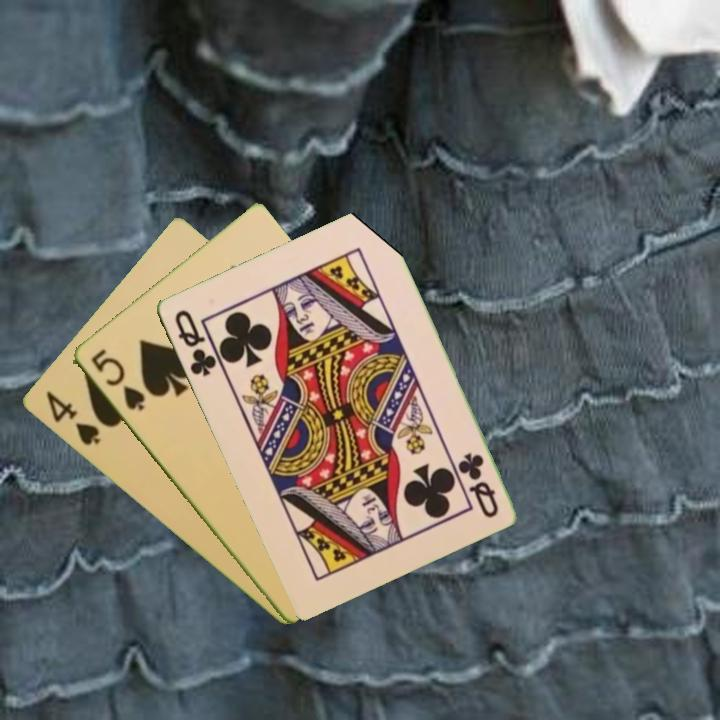4s: (42, 387, 103, 449)
5s: (87, 345, 148, 415)
Qc: (170, 306, 219, 379), (455, 448, 501, 521)
